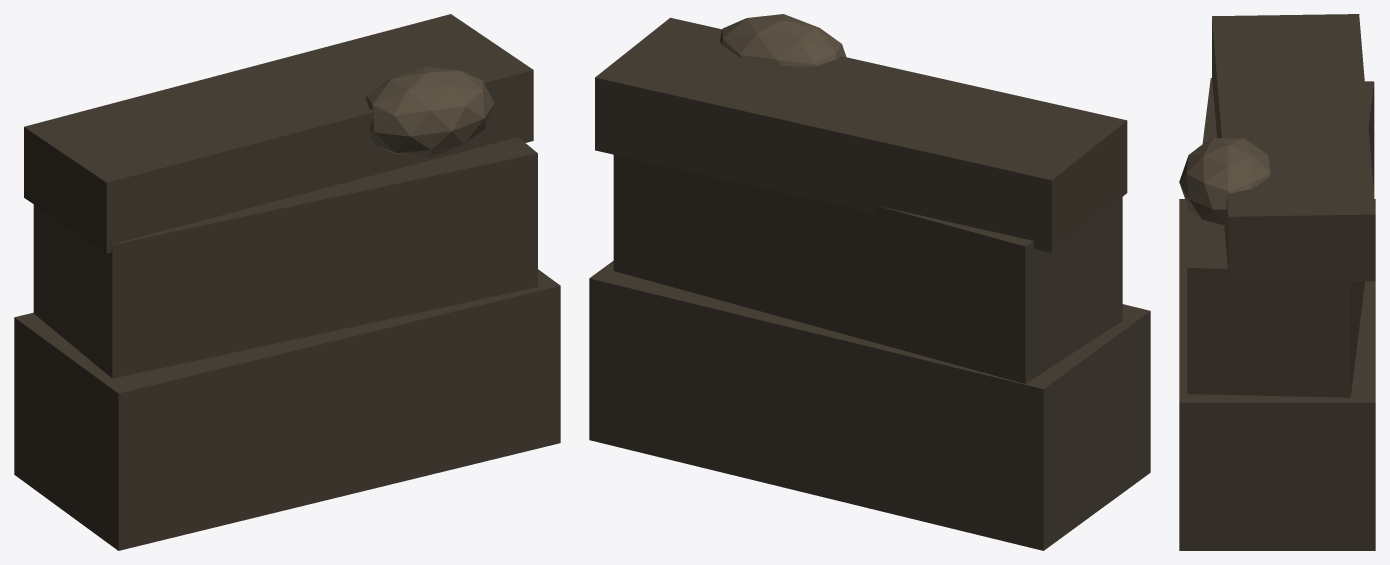
File: cliff_wall_segment.glb
3 views of the same model, side by side, from view 1: azimuth 30°, elevation 25°; view 2: azimuth 150°, elevation 25°; view 3: azimuth 270°, elevation 25° (orthographic). The views are drawn at different scales.
Parts seen in each view (by area): view 1: cliff_wall_segment; view 2: cliff_wall_segment; view 3: cliff_wall_segment.
Boxes of the visible parts, box(x1,y1,x2,y2) form: cliff_wall_segment: box(14, 14, 560, 550); cliff_wall_segment: box(589, 14, 1150, 550); cliff_wall_segment: box(1179, 14, 1375, 550).
Size of the model in its own units: 2.94 by 2.4 by 1.2.
